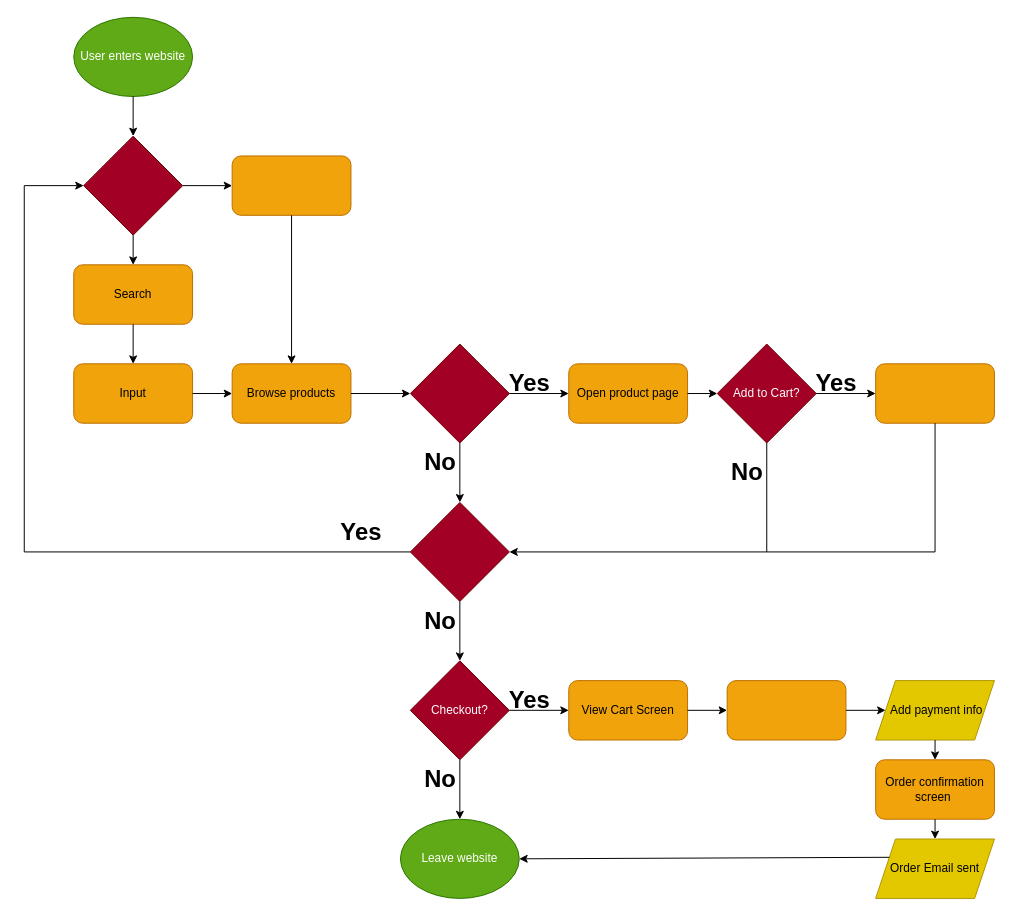
This 1012x916 diagram has some shape labels left out. The box of each missing label's shape, as (x1, y1, x2, y2) in pixels:
Added to cart confirmation: (875, 363, 994, 423)
Continue Shopping?: (409, 501, 509, 601)
Explore Homepage: (231, 155, 351, 215)
Search OR Homepage: (83, 135, 183, 235)
View Payment Screen: (726, 680, 846, 740)
View specific product?: (409, 343, 509, 443)
